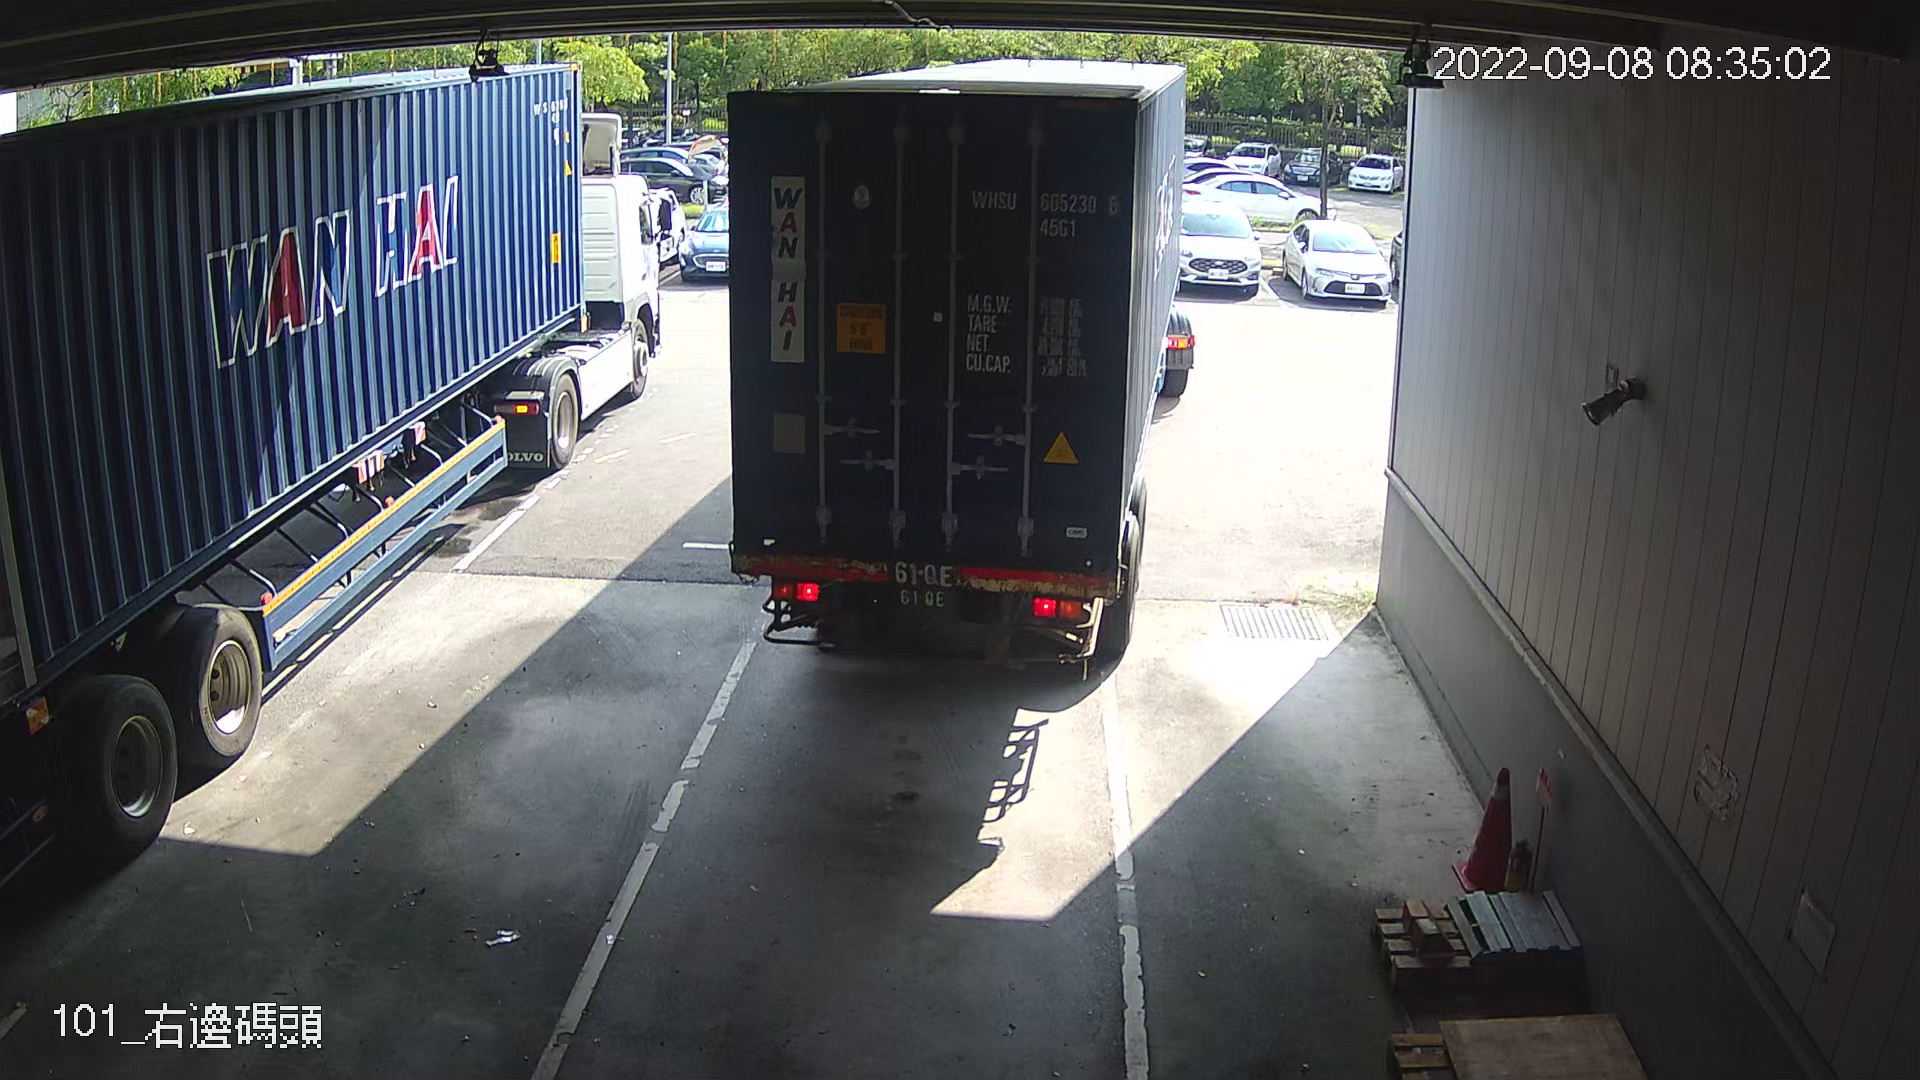container: (956, 179, 1127, 247)
